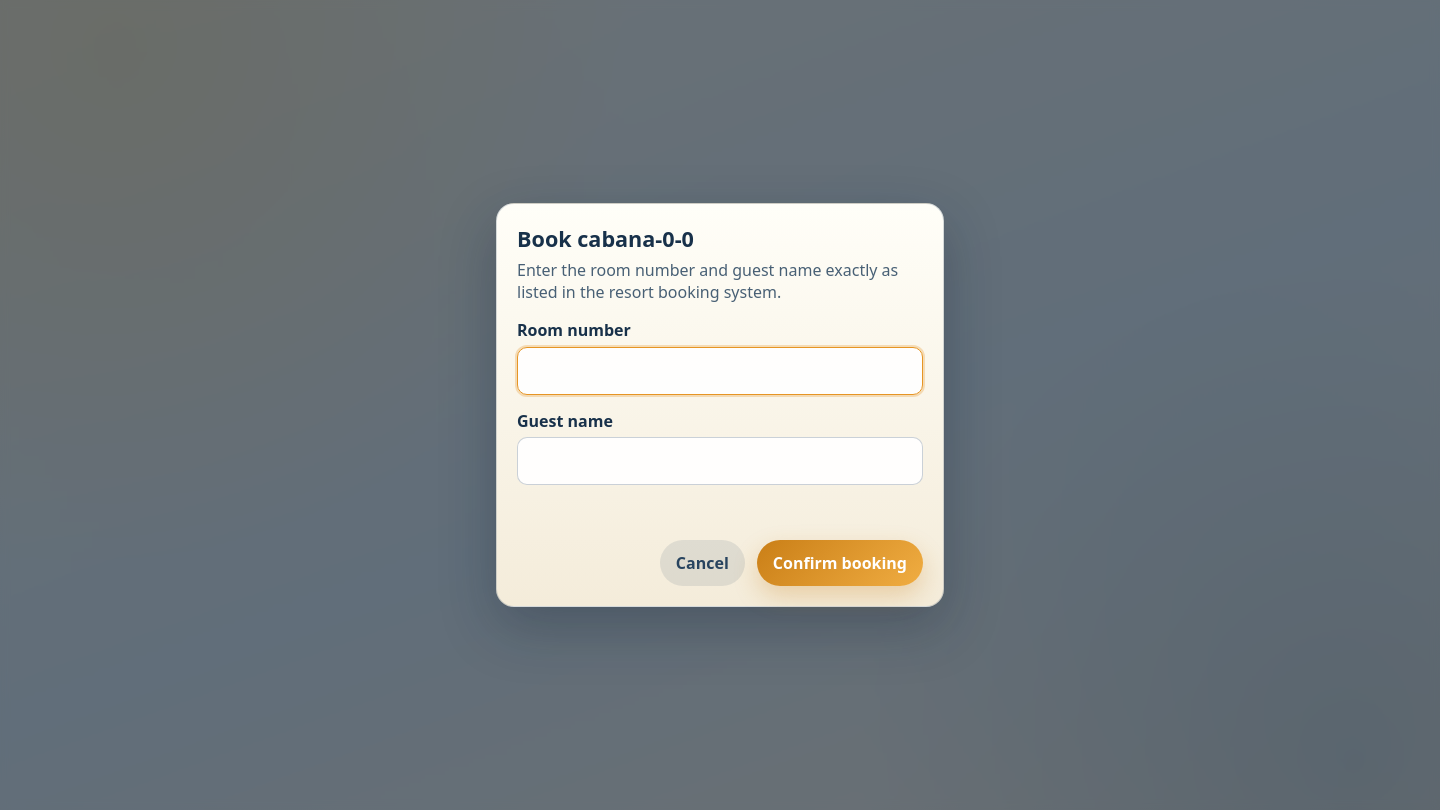
Scenario: BookingModal › shows required fields message when room or guest name is missing
Click the button "Confirm booking" at coordinates (840, 563), box x1=757 y1=540 x2=923 y2=586
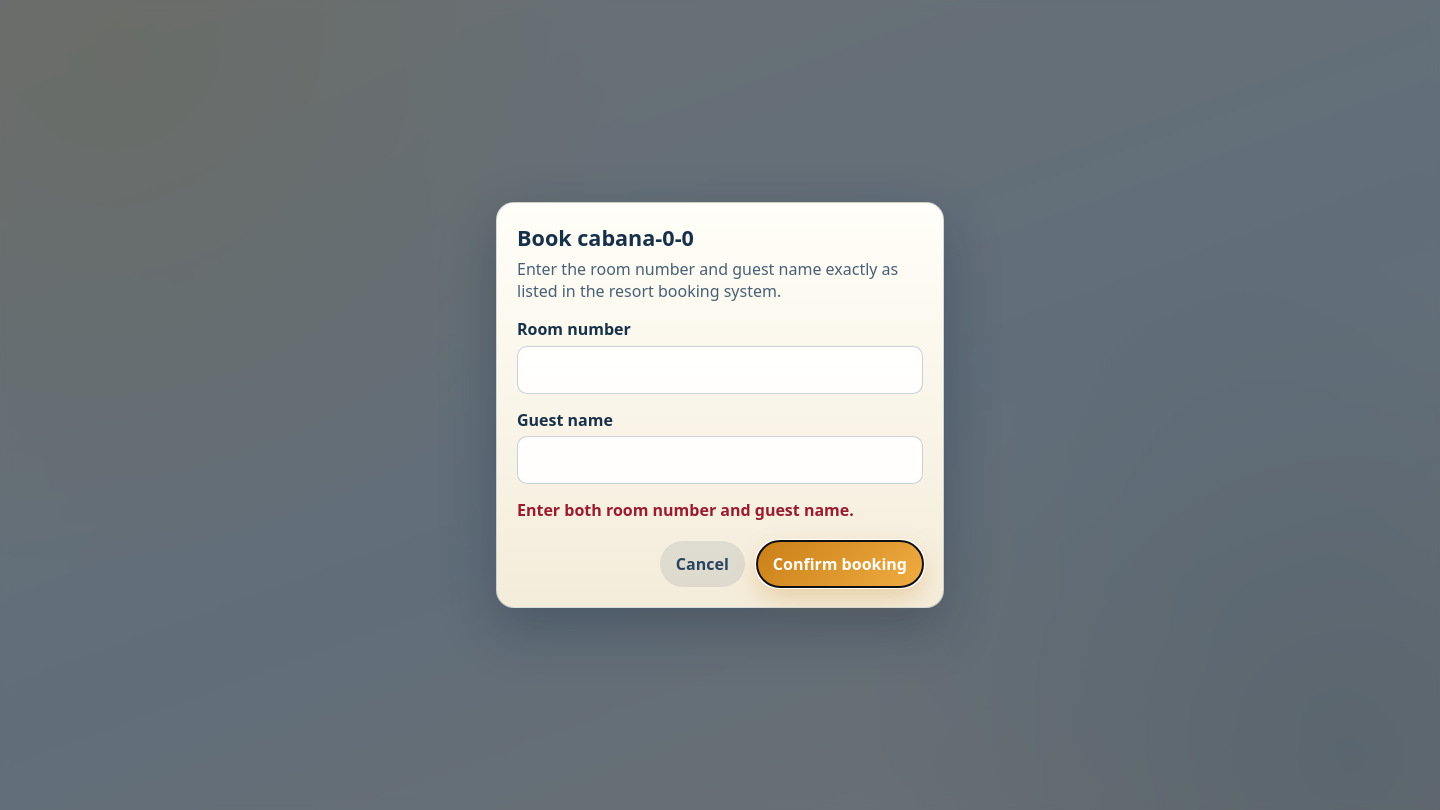
Expected: the text "Enter both room number and guest name." is shown, x1=517 y1=500 x2=854 y2=522
